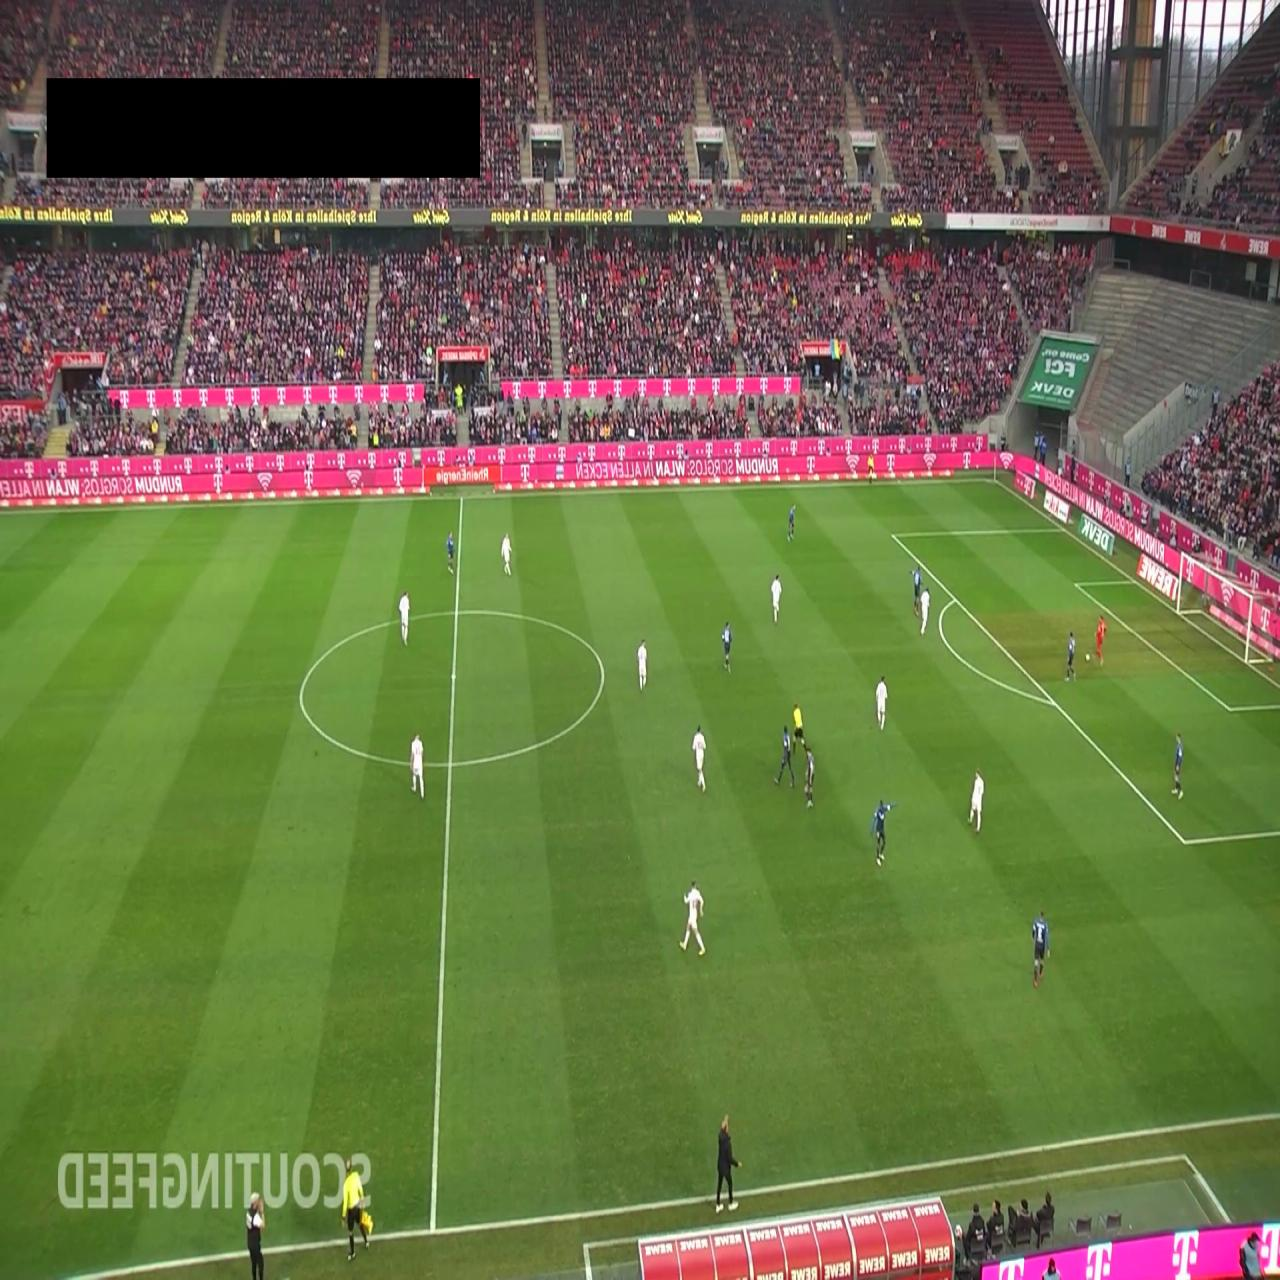ball: (1084, 651, 1090, 662)
goalkeeper: (1094, 615, 1106, 666)
player: (679, 878, 706, 956), (870, 799, 896, 865), (1032, 906, 1050, 989), (774, 724, 795, 788), (968, 768, 985, 833), (691, 724, 707, 793), (410, 732, 425, 799), (1172, 730, 1184, 798), (803, 743, 815, 810), (875, 674, 888, 731), (399, 590, 410, 646), (721, 620, 732, 674), (919, 584, 930, 636), (771, 572, 782, 624), (637, 639, 648, 691), (1065, 630, 1076, 681), (911, 568, 922, 614), (501, 531, 512, 576), (446, 530, 455, 572), (788, 502, 796, 542)
referee: (340, 1160, 370, 1261), (792, 703, 806, 755), (866, 449, 874, 485)
